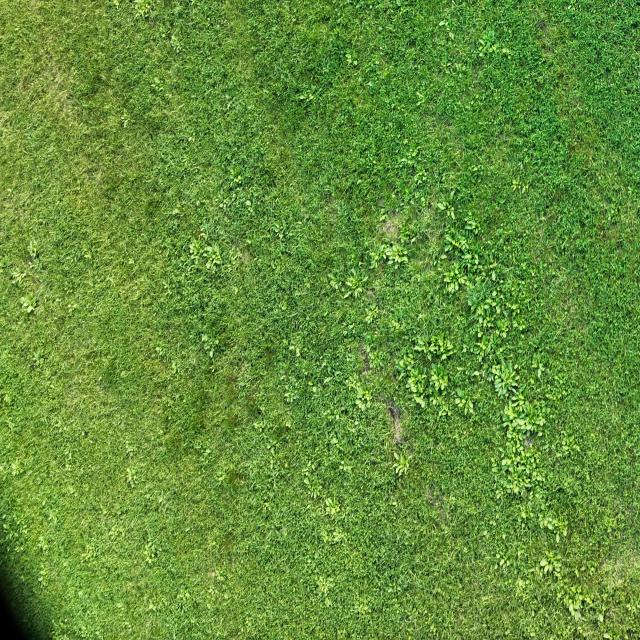rumex: (471, 8, 570, 134), (418, 5, 514, 109), (247, 424, 306, 508), (7, 246, 47, 313), (492, 270, 534, 330), (498, 443, 542, 499), (441, 248, 478, 296), (396, 149, 426, 193), (427, 360, 453, 406), (490, 362, 521, 399), (472, 323, 500, 362), (464, 280, 498, 312), (436, 10, 462, 49), (508, 404, 541, 434), (403, 364, 428, 402), (556, 429, 583, 463), (563, 586, 589, 620), (443, 228, 475, 255), (350, 379, 376, 412), (366, 344, 392, 376), (538, 513, 565, 541), (453, 386, 476, 418), (200, 332, 222, 362), (187, 234, 211, 261), (429, 334, 454, 358), (434, 198, 456, 224), (201, 243, 222, 269), (396, 354, 418, 378), (140, 539, 159, 566), (385, 243, 409, 264), (392, 454, 412, 478), (344, 274, 364, 296), (227, 165, 244, 190), (322, 496, 341, 518), (461, 216, 480, 237), (510, 176, 530, 195), (362, 305, 380, 326), (443, 268, 460, 290), (316, 574, 332, 596), (222, 466, 238, 487), (370, 246, 386, 265), (270, 220, 286, 238), (282, 388, 299, 404), (327, 272, 342, 290), (344, 50, 358, 69), (26, 237, 38, 259), (429, 368, 442, 388), (11, 270, 27, 286), (478, 40, 492, 57), (493, 376, 506, 394), (221, 98, 234, 115), (606, 206, 618, 224), (504, 402, 516, 420), (125, 469, 135, 487), (10, 461, 22, 476), (210, 241, 220, 258), (351, 28, 360, 46), (136, 6, 148, 19), (384, 245, 396, 258), (265, 438, 277, 450), (170, 38, 181, 51), (553, 559, 563, 572), (569, 601, 578, 615), (298, 91, 310, 101), (416, 336, 426, 348), (147, 601, 157, 612), (502, 458, 513, 468), (516, 578, 526, 589), (19, 295, 29, 306), (293, 346, 302, 358), (325, 497, 334, 509), (189, 242, 197, 255), (488, 29, 496, 42), (125, 445, 135, 455), (153, 76, 162, 87), (122, 117, 130, 129), (543, 561, 551, 573), (537, 366, 544, 379), (171, 206, 180, 216), (322, 376, 332, 385), (312, 385, 321, 394), (84, 250, 92, 260), (193, 442, 203, 450), (3, 394, 11, 404), (207, 586, 215, 596), (38, 572, 46, 582), (512, 482, 520, 492), (568, 3, 576, 13), (505, 430, 513, 440), (438, 19, 448, 27), (436, 202, 446, 210), (603, 631, 613, 639), (410, 235, 417, 246), (597, 612, 604, 623), (306, 93, 314, 102), (201, 334, 209, 343), (244, 199, 252, 208), (380, 213, 388, 222), (501, 48, 510, 56), (345, 52, 352, 62), (449, 189, 456, 199), (211, 569, 217, 580), (112, 1, 120, 9), (478, 38, 486, 46), (200, 231, 207, 240), (499, 558, 505, 568), (561, 439, 568, 447), (171, 361, 177, 370), (491, 271, 496, 281), (188, 135, 194, 143), (491, 44, 497, 52), (477, 331, 483, 338), (492, 290, 498, 297)
